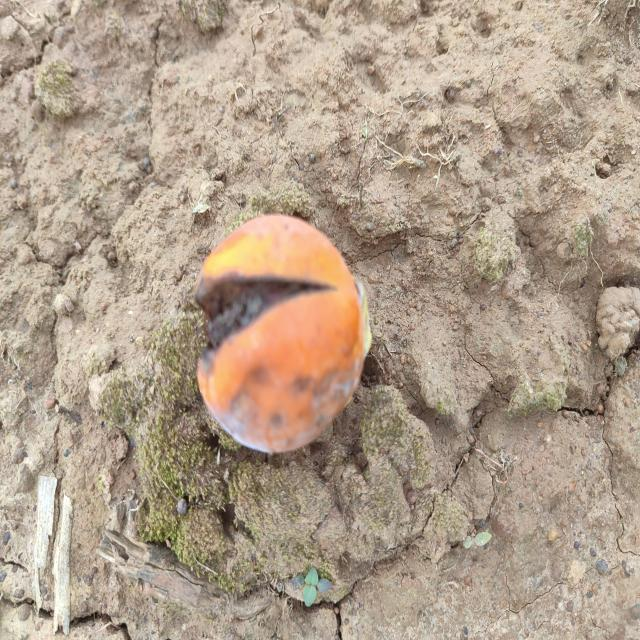damaged: (195, 214, 370, 453)
